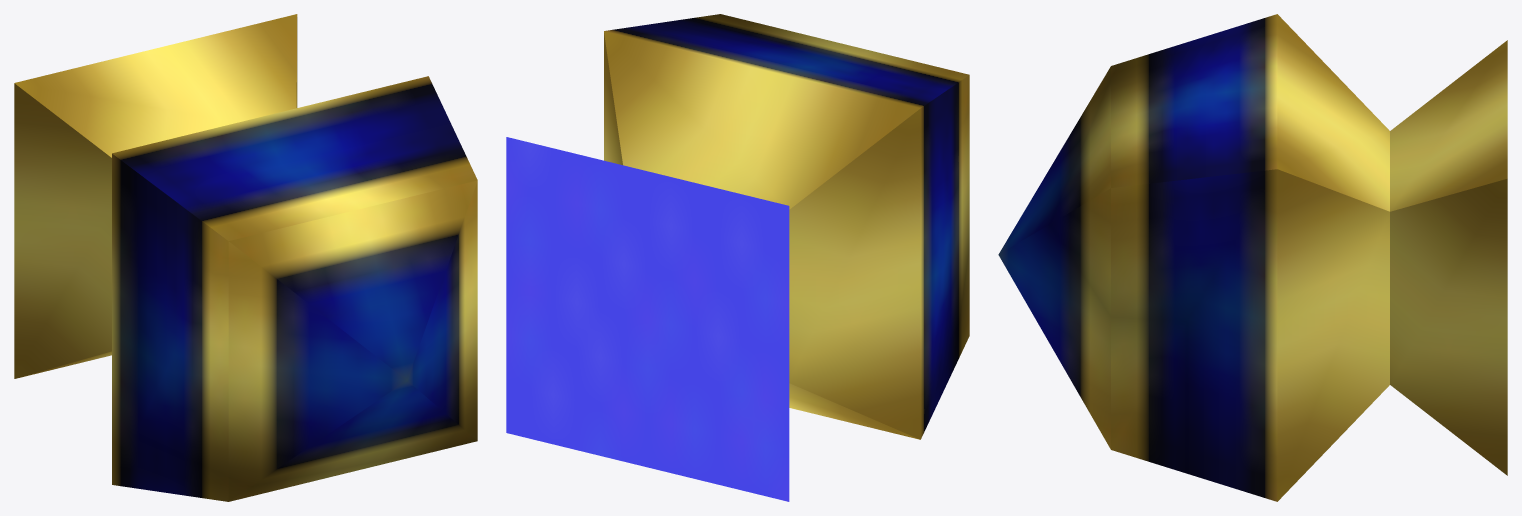
Rendered from round-row9.glb.
The picture shows the model from 3 angles, left to right: view 1: azimuth 30°, elevation 25°; view 2: azimuth 150°, elevation 25°; view 3: azimuth 270°, elevation 25°; orthographic projection.
Visible parts, largest first — view 1: root; view 2: root; view 3: root.
Boxes of the visible parts, x1,y1,x2,y2 form: root: (14, 14, 477, 501); root: (506, 14, 969, 501); root: (998, 14, 1507, 501).
Bounding box in the file's own units: 0.1465 × 0.1465 × 0.2031.
1 material, 1 textured.
